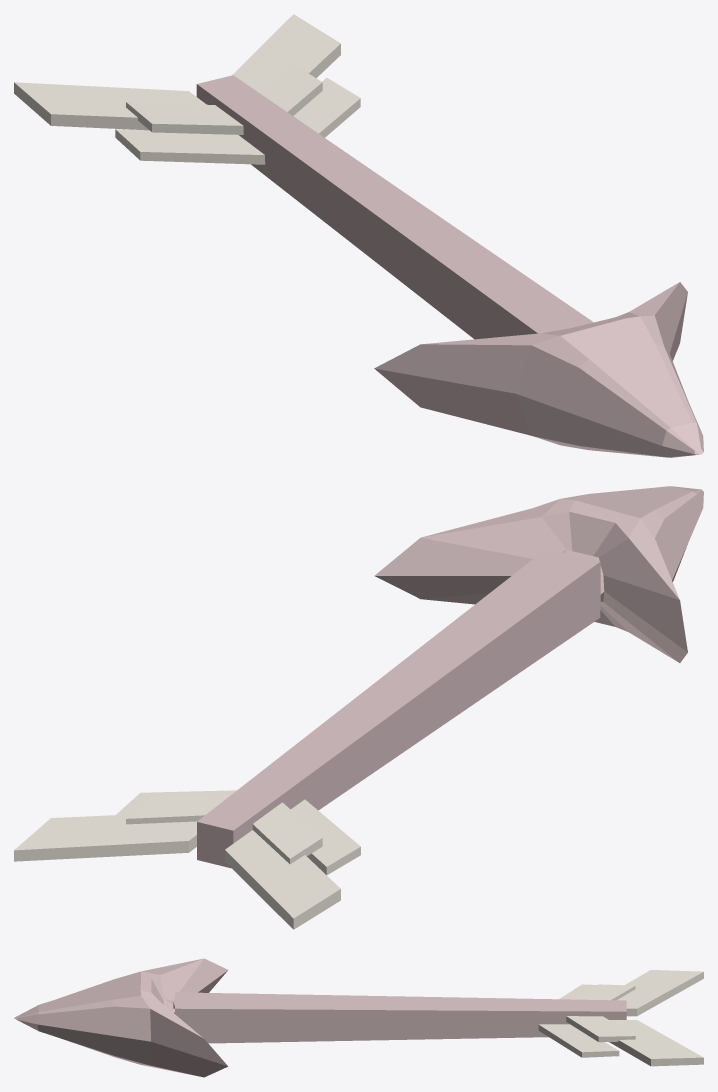
3 renders of one model, top to bottom at view 1: azimuth 30°, elevation 25°; view 2: azimuth 150°, elevation 25°; view 3: azimuth 270°, elevation 25°, orthographic. The views are drawn at different scales.
Parts seen in each view (by area): view 1: Cube.001; view 2: Cube.001; view 3: Cube.001.
Boxes of the visible parts, x1,y1,x2,y2 form: Cube.001: (14,14,703,457); Cube.001: (14,486,703,929); Cube.001: (14,958,703,1077).
Size of the model in its own units: 0.9551 by 0.3286 by 2.89.
